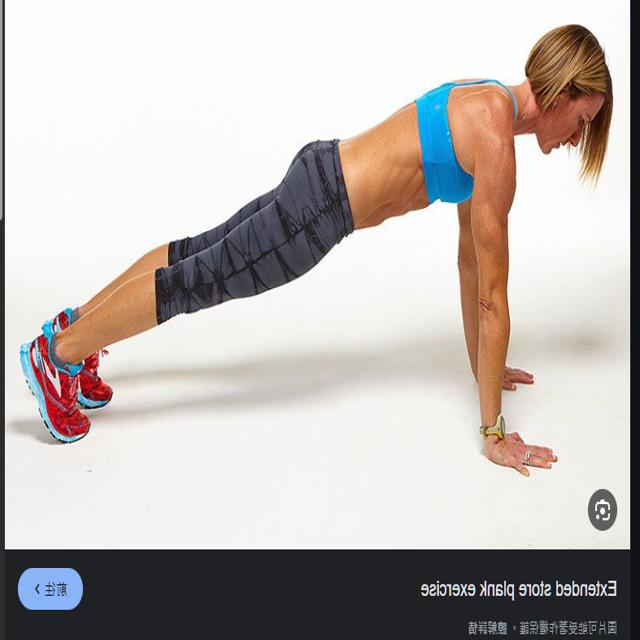Plank_Pose: (12, 23, 619, 487)
